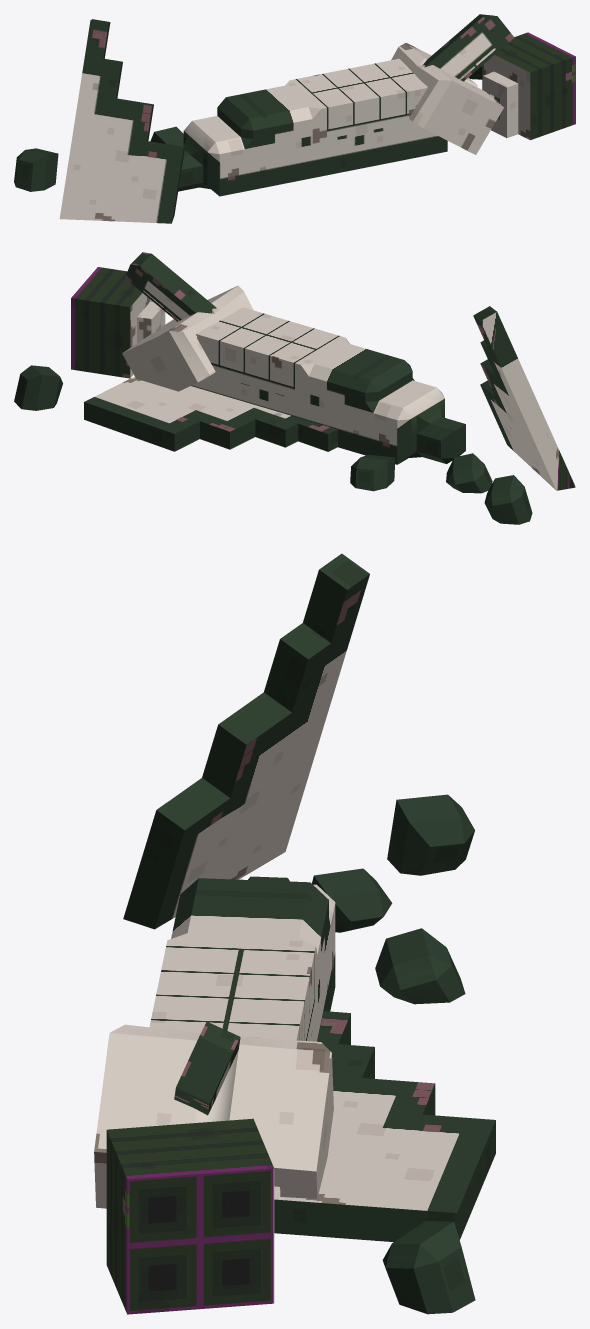
File: C2_Garbage_03-6.FBX
3 renders of one model, top to bottom at view 1: azimuth 30°, elevation 25°; view 2: azimuth 150°, elevation 25°; view 3: azimuth 270°, elevation 25°, orthographic. The views are drawn at different scales.
Visible parts, largest first — view 1: Object002; view 2: Object002; view 3: Object002.
Part boxes in pixels (<box>): Object002: <box>14,14,575,223</box>; Object002: <box>14,252,575,524</box>; Object002: <box>94,553,495,1314</box>.
Size of the model in its own units: 354 by 122 by 127.
1 material, 1 textured.
